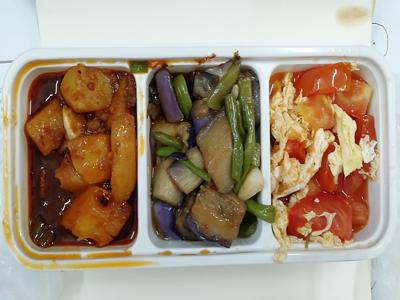jdxhs: (271, 61, 381, 249)
jrtd: (19, 62, 143, 248)
sqz: (151, 62, 266, 253)
